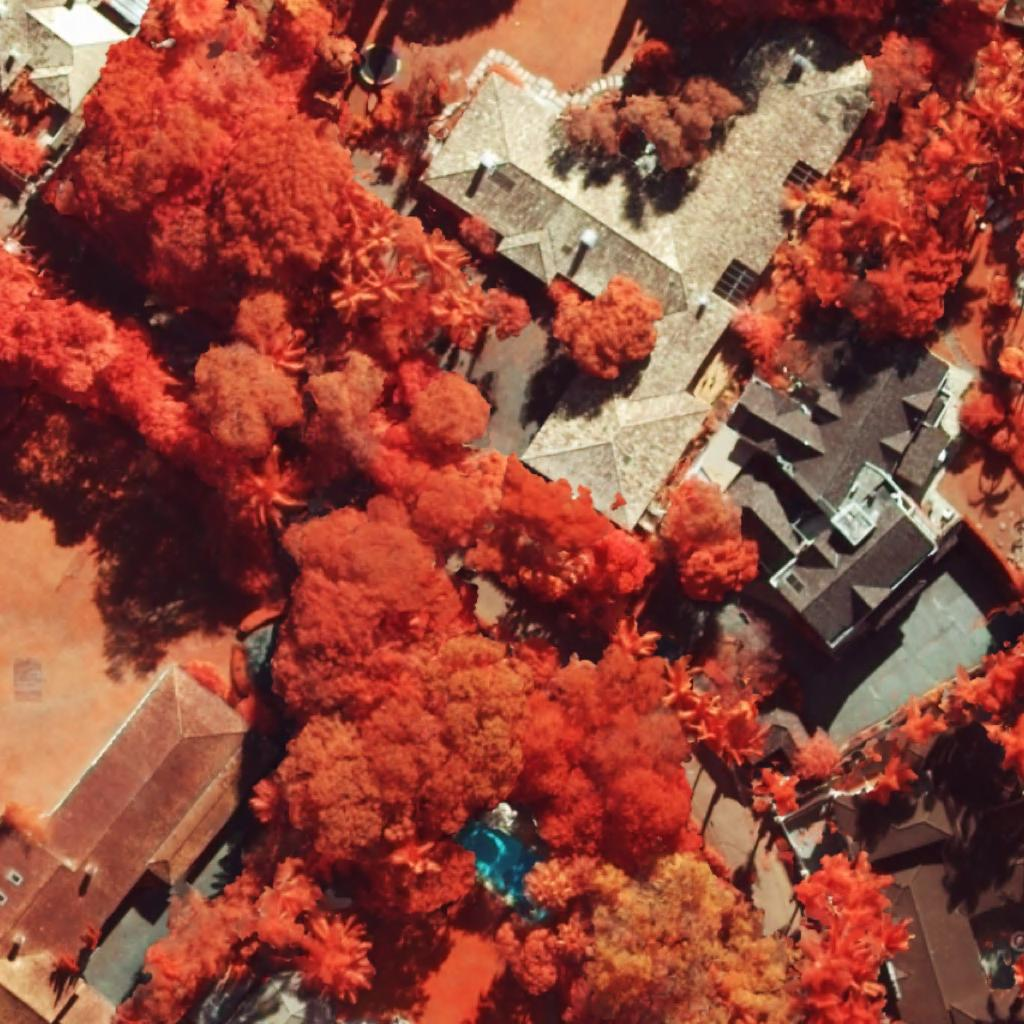pool: (456, 821, 540, 902)
